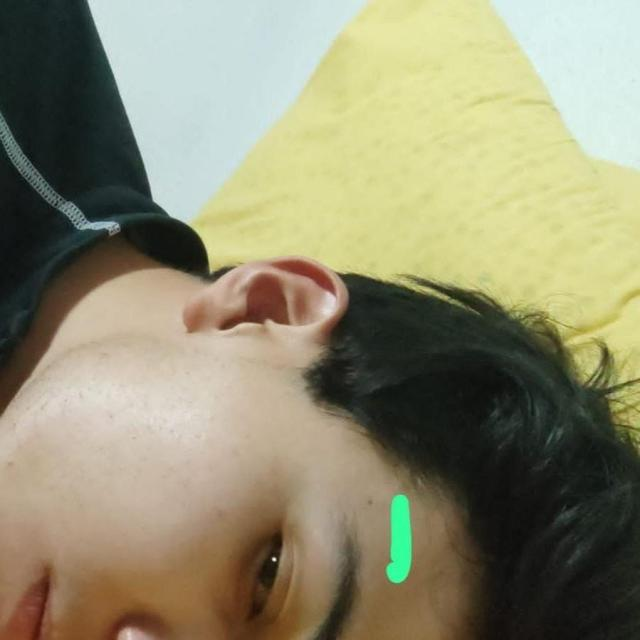ear: (184, 256, 348, 342)
